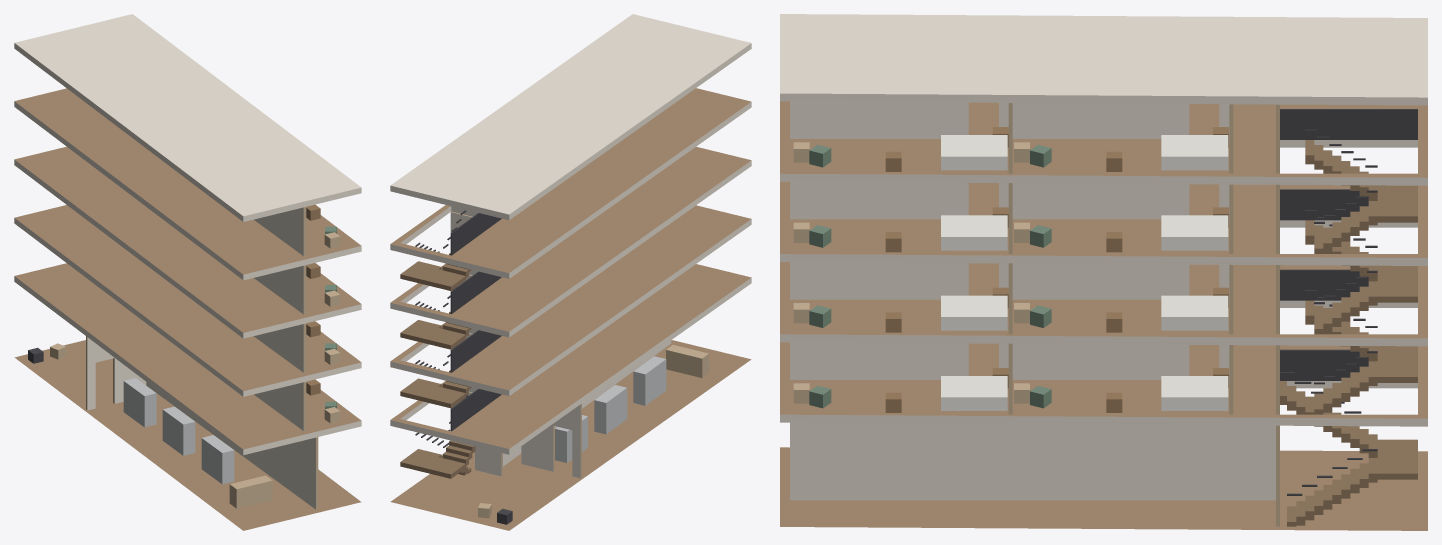
The model's file is interior.glb.
3 views of the same model, side by side, from view 1: azimuth 30°, elevation 25°; view 2: azimuth 150°, elevation 25°; view 3: azimuth 270°, elevation 25° (orthographic). The views are drawn at different scales.
Visible parts, largest first — view 1: slabs, partitions, coarse-s0, coarse-s4, coarse-s1, coarse-s2, coarse-s3; view 2: slabs, stair, coarse-s0, partitions; view 3: slabs, partitions, stair, coarse-s4, coarse-s2, coarse-s3, coarse-s1.
Boxes of the visible parts, x1,y1,x2,y2 form: slabs: (14,14,361,530); partitions: (86,207,318,509); coarse-s0: (28,343,272,508); coarse-s4: (306,204,340,248); coarse-s1: (306,379,340,423); coarse-s2: (306,321,340,364); coarse-s3: (306,263,340,306); slabs: (390,14,751,530); stair: (400,210,501,478); coarse-s0: (478,345,708,524); partitions: (450,206,671,478); slabs: (780,14,1427,530); partitions: (790,101,1279,526); stair: (1280,109,1417,526); coarse-s4: (793,127,1228,171); coarse-s2: (793,287,1228,332); coarse-s3: (793,207,1228,252); coarse-s1: (793,368,1228,412).
Bounding box in the file's own units: 5.9 × 14.29 × 19.33.
